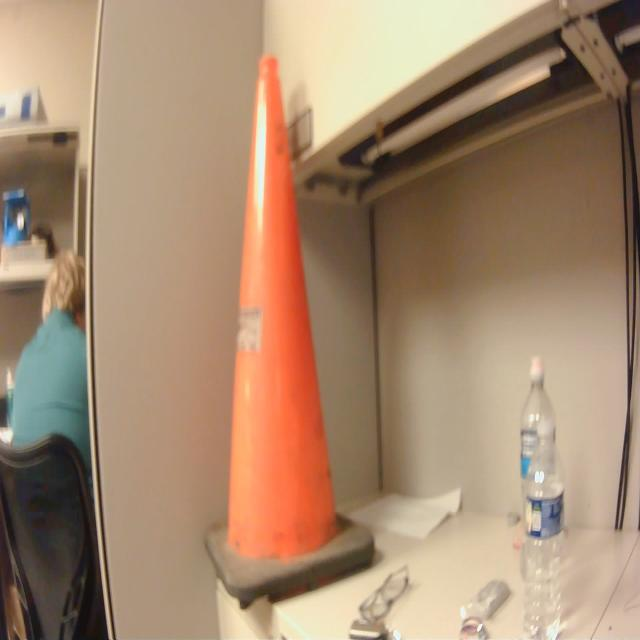traffic cone: (197, 50, 383, 619)
